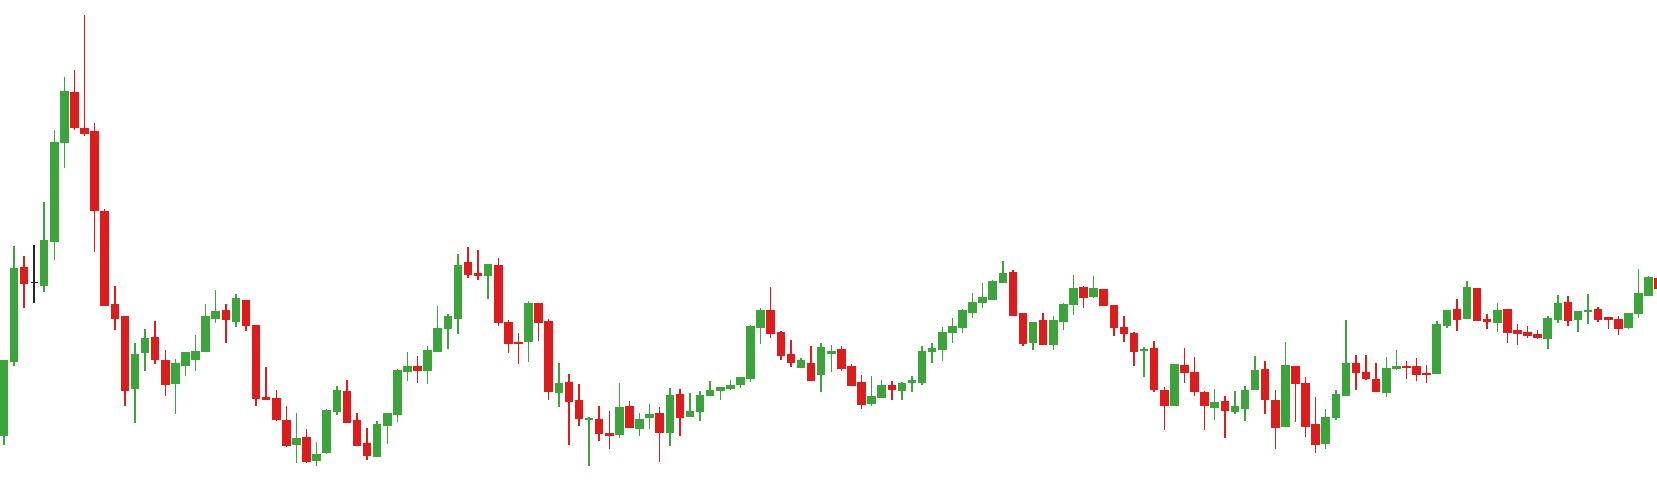buy: (1270, 376, 1332, 461)
